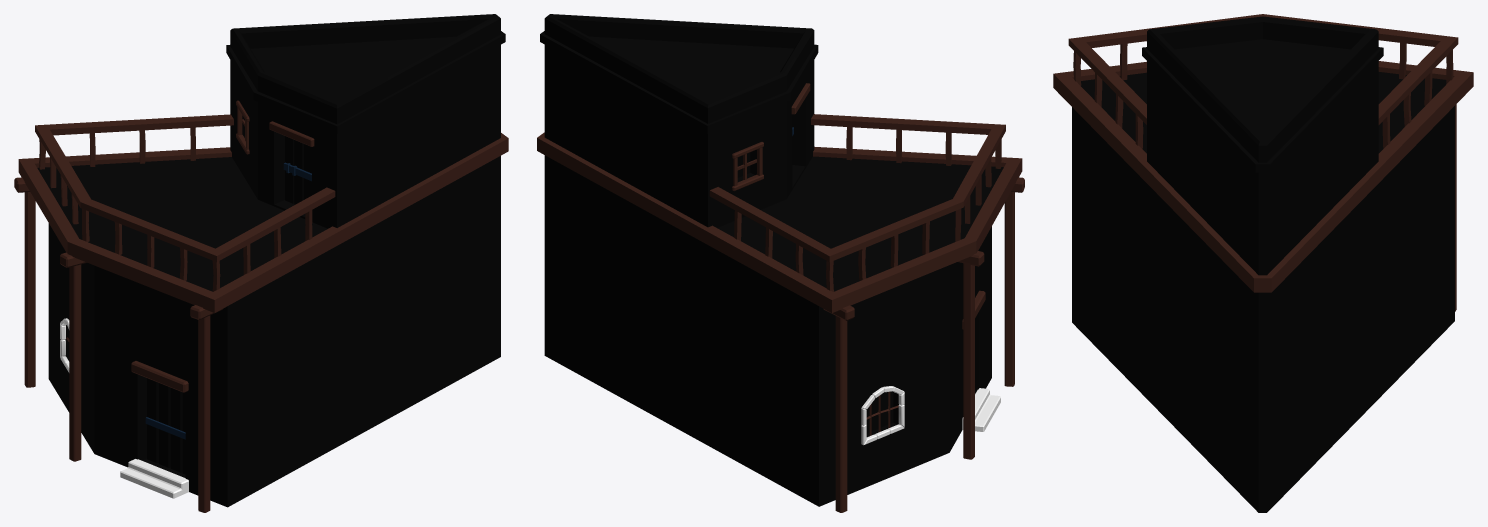
File: civilian_house_30_g.FBX
3 views of the same model, side by side, from view 1: azimuth 30°, elevation 25°; view 2: azimuth 150°, elevation 25°; view 3: azimuth 270°, elevation 25° (orthographic). The views are drawn at different scales.
Parts seen in each view (by area): view 1: civilian_house_30_g; view 2: civilian_house_30_g; view 3: civilian_house_30_g.
Boxes of the visible parts, bbox=[...] form: civilian_house_30_g: bbox=[14, 14, 508, 512]; civilian_house_30_g: bbox=[537, 14, 1024, 512]; civilian_house_30_g: bbox=[1053, 14, 1473, 512].
Size of the model in its own units: 1268 by 933 by 960.
